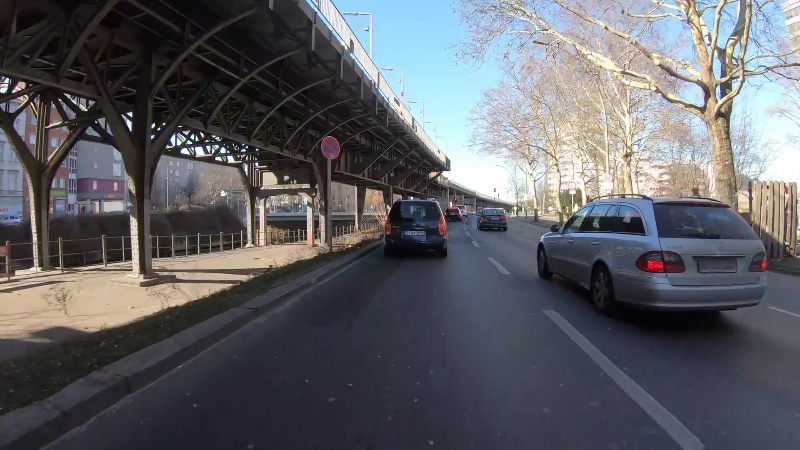Plate: (693, 258, 742, 274), (403, 230, 428, 237)
